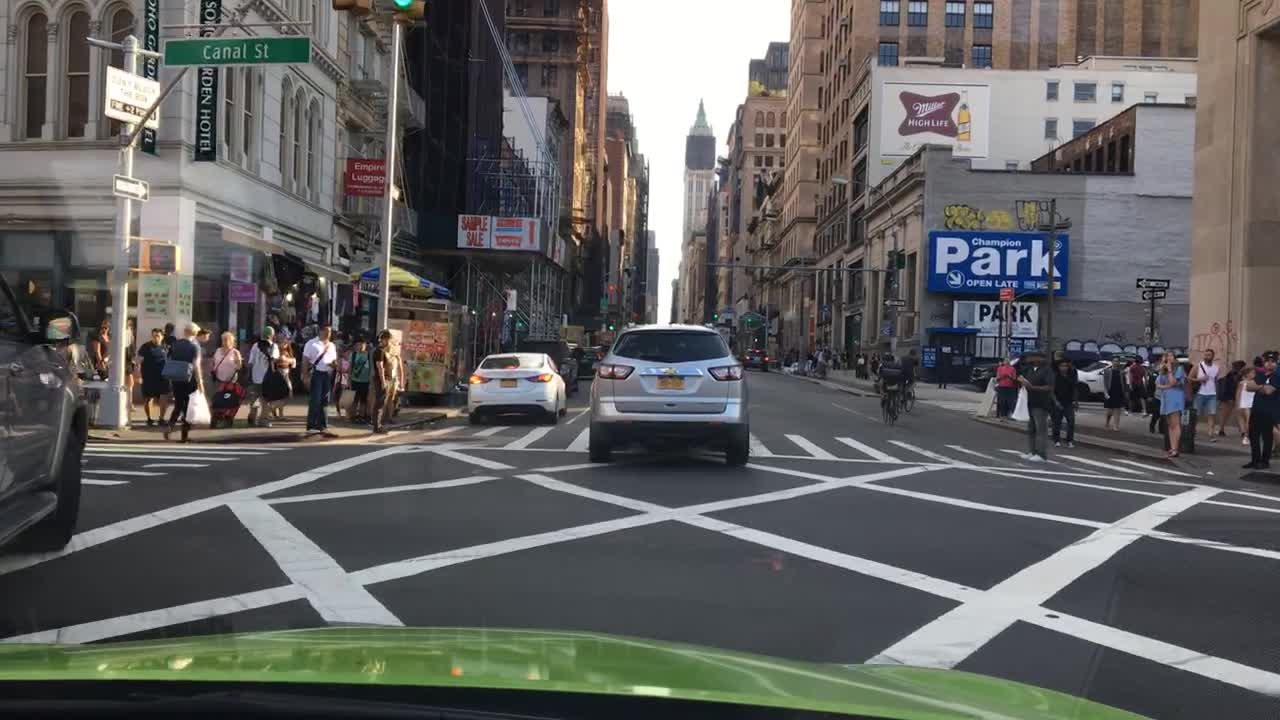bike: (873, 375, 900, 425), (893, 375, 920, 413), (807, 362, 827, 378)
car: (1, 269, 91, 554), (585, 321, 751, 472), (464, 350, 566, 428), (968, 347, 1075, 390), (1076, 359, 1182, 400), (517, 336, 578, 399), (571, 345, 604, 377), (741, 345, 770, 371)
person: (160, 320, 211, 443), (300, 323, 340, 440), (1244, 352, 1279, 469), (1017, 349, 1050, 464), (134, 328, 170, 427), (245, 323, 279, 425), (1213, 359, 1249, 446), (1186, 348, 1218, 444), (213, 331, 242, 431), (370, 328, 393, 434), (1049, 360, 1076, 450), (273, 337, 297, 421), (1101, 355, 1125, 433), (264, 311, 300, 361), (1232, 367, 1254, 447), (351, 339, 369, 422), (387, 341, 405, 424), (122, 318, 137, 411), (90, 319, 112, 381), (993, 359, 1017, 414), (332, 349, 351, 417), (1128, 355, 1146, 419), (1148, 362, 1163, 436), (1120, 362, 1138, 412), (1180, 363, 1195, 414), (934, 351, 951, 389), (160, 323, 177, 357), (1249, 355, 1266, 389), (1066, 359, 1078, 390), (194, 329, 209, 352), (331, 329, 346, 351), (782, 346, 794, 367), (854, 350, 862, 378), (870, 352, 880, 374), (811, 346, 821, 363), (831, 350, 840, 368), (861, 351, 867, 378), (840, 350, 848, 369), (817, 349, 826, 365), (823, 346, 831, 362), (793, 346, 800, 363)
rider: (873, 350, 900, 415), (896, 347, 921, 401)
traffic light: (141, 241, 181, 272), (384, 0, 427, 24), (330, 0, 375, 15), (607, 318, 616, 331), (514, 318, 525, 328), (744, 314, 753, 325), (606, 281, 615, 290), (711, 311, 719, 319)
traffic sign: (163, 34, 311, 63), (104, 64, 162, 130), (111, 175, 148, 202), (1135, 278, 1169, 289), (1142, 325, 1158, 344), (1140, 288, 1164, 300), (881, 297, 906, 308), (1142, 305, 1163, 318), (997, 287, 1014, 302), (599, 296, 608, 310)
